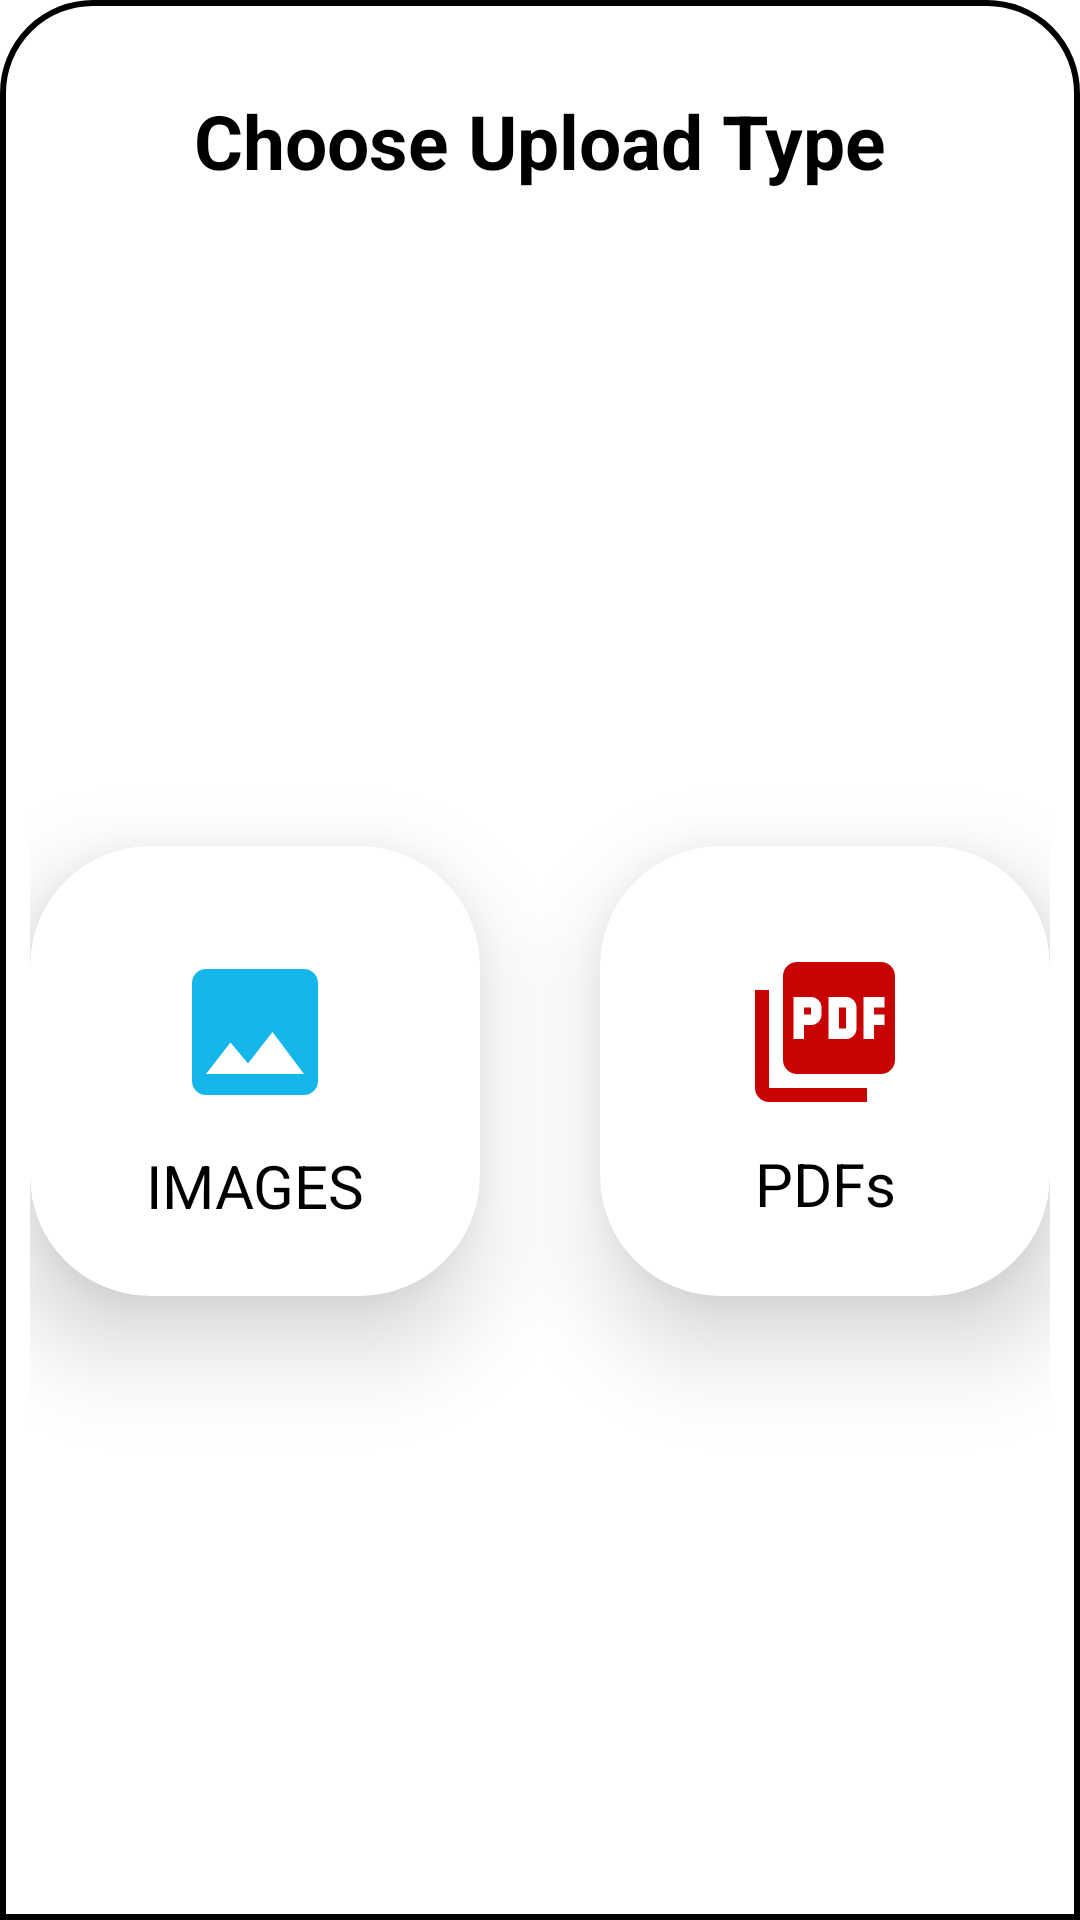

Point at icon controls on the screen. Image size 1080×1920, points as (x,y).
imageicon: (255,1032)
